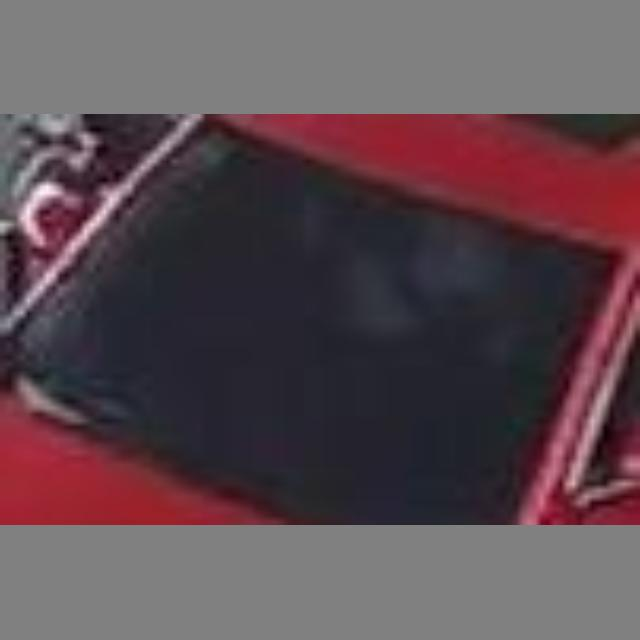pakai: (291, 177, 513, 374)
